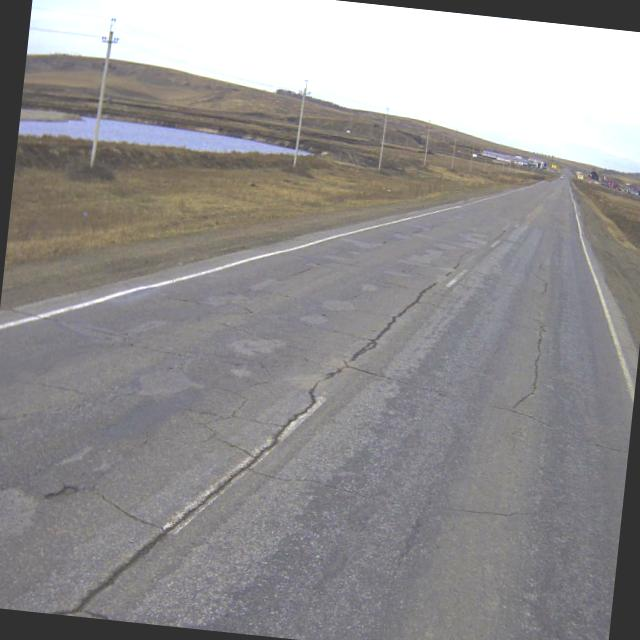road: (0, 176, 637, 640)
